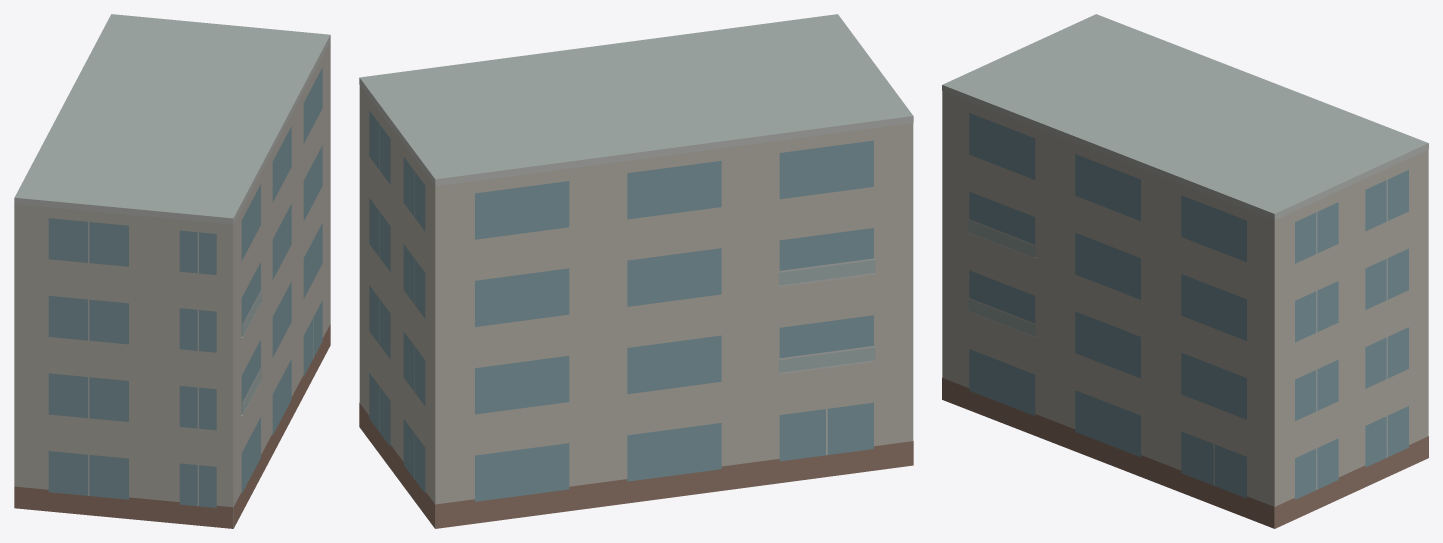
Rendered from residential-ccd8d173-60f9-4e8e-b9f7-cbb3edc7c8d6.glb.
3 views of the same model, side by side, from view 1: azimuth 30°, elevation 25°; view 2: azimuth 150°, elevation 25°; view 3: azimuth 270°, elevation 25° (orthographic). The views are drawn at different scales.
Visible parts, largest first — view 1: residential-ccd8d173-60f9-4e8e-b9f7-cbb3edc7c8d6.tmp; view 2: residential-ccd8d173-60f9-4e8e-b9f7-cbb3edc7c8d6.tmp; view 3: residential-ccd8d173-60f9-4e8e-b9f7-cbb3edc7c8d6.tmp.
Part boxes in pixels (x1,y1,x2,y2): residential-ccd8d173-60f9-4e8e-b9f7-cbb3edc7c8d6.tmp: [14, 14, 330, 528]; residential-ccd8d173-60f9-4e8e-b9f7-cbb3edc7c8d6.tmp: [359, 14, 913, 528]; residential-ccd8d173-60f9-4e8e-b9f7-cbb3edc7c8d6.tmp: [942, 14, 1428, 528].
Bounding box in the file's own units: 16.63 × 12.2 × 17.1.
